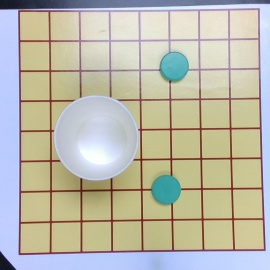cup: (54, 95, 139, 182)
green: (151, 174, 181, 205), (161, 52, 189, 80)
